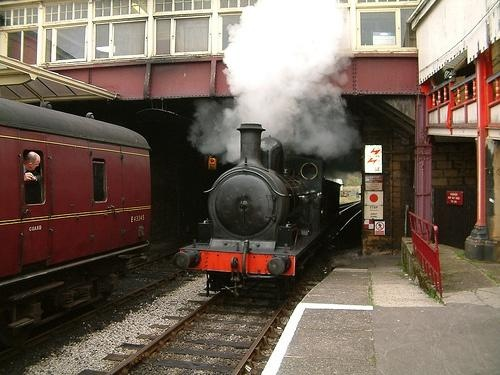train: (1, 95, 156, 351), (178, 119, 346, 302)
